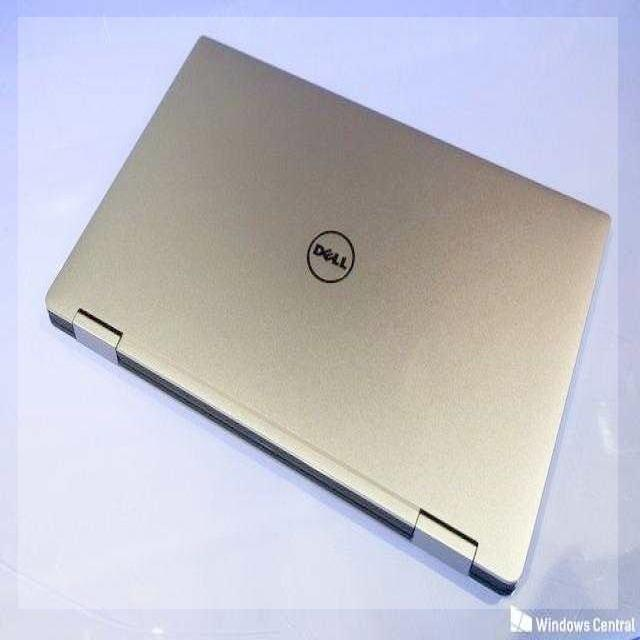-keyboard-: (18, 18, 618, 610)
